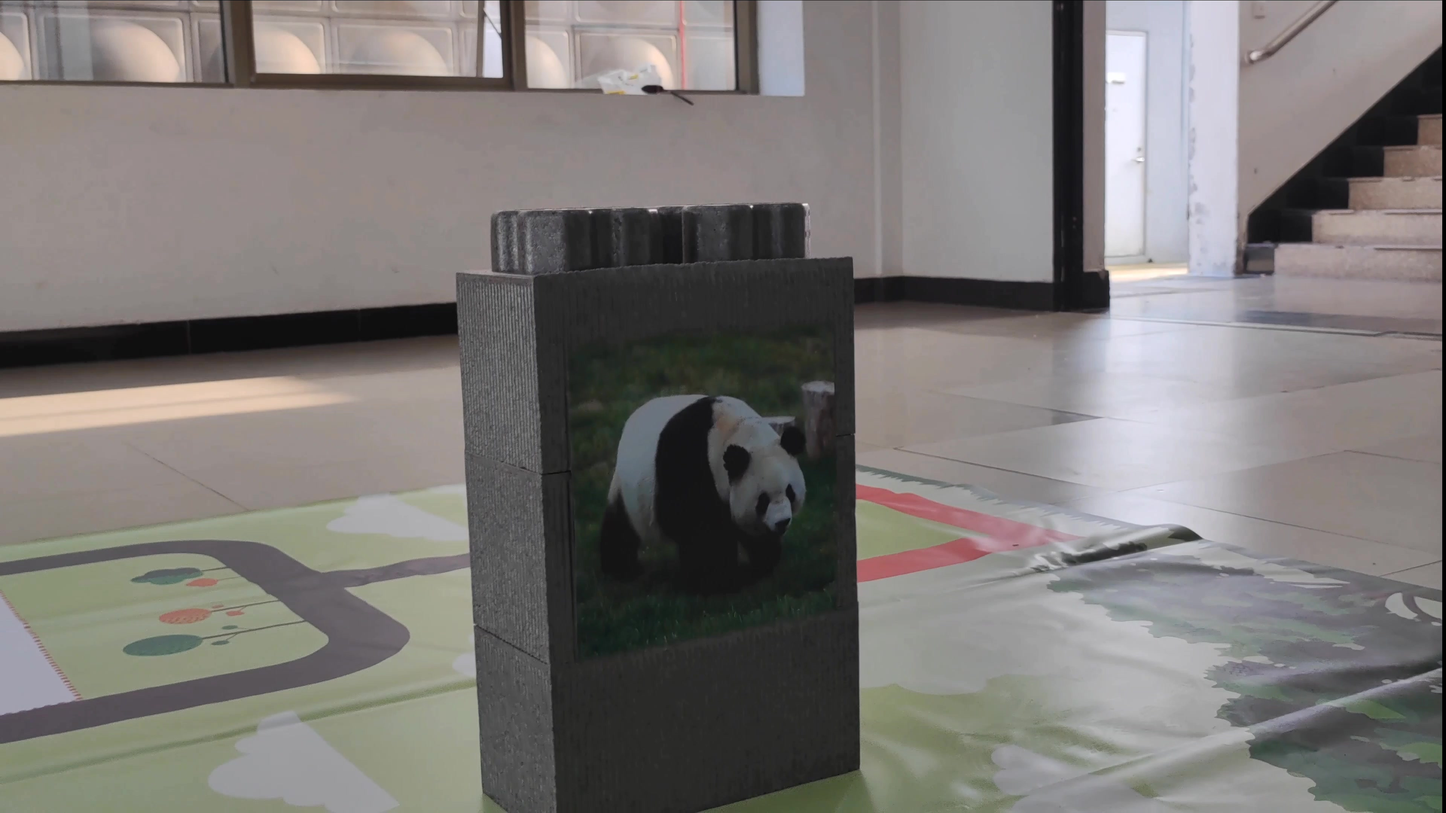panda: (594, 338, 822, 585)
